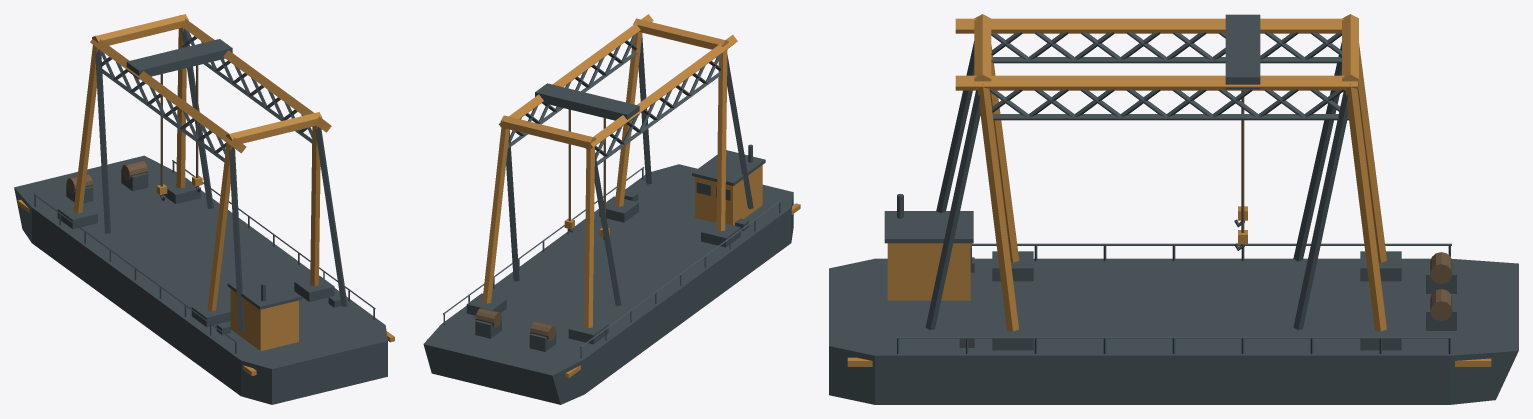
File: salvage-pontoon-crane.glb
3 renders of one model, left to right at view 1: azimuth 30°, elevation 25°; view 2: azimuth 150°, elevation 25°; view 3: azimuth 270°, elevation 25°, orthographic. The views are drawn at different scales.
Visible parts, largest first — view 1: structure; view 2: structure; view 3: structure.
Part boxes in pixels (x1,y1,x2,y2): structure: [14, 14, 394, 404]; structure: [423, 14, 800, 404]; structure: [829, 14, 1518, 404].
Bounding box in the file's own units: 10 × 14.98 × 30.
